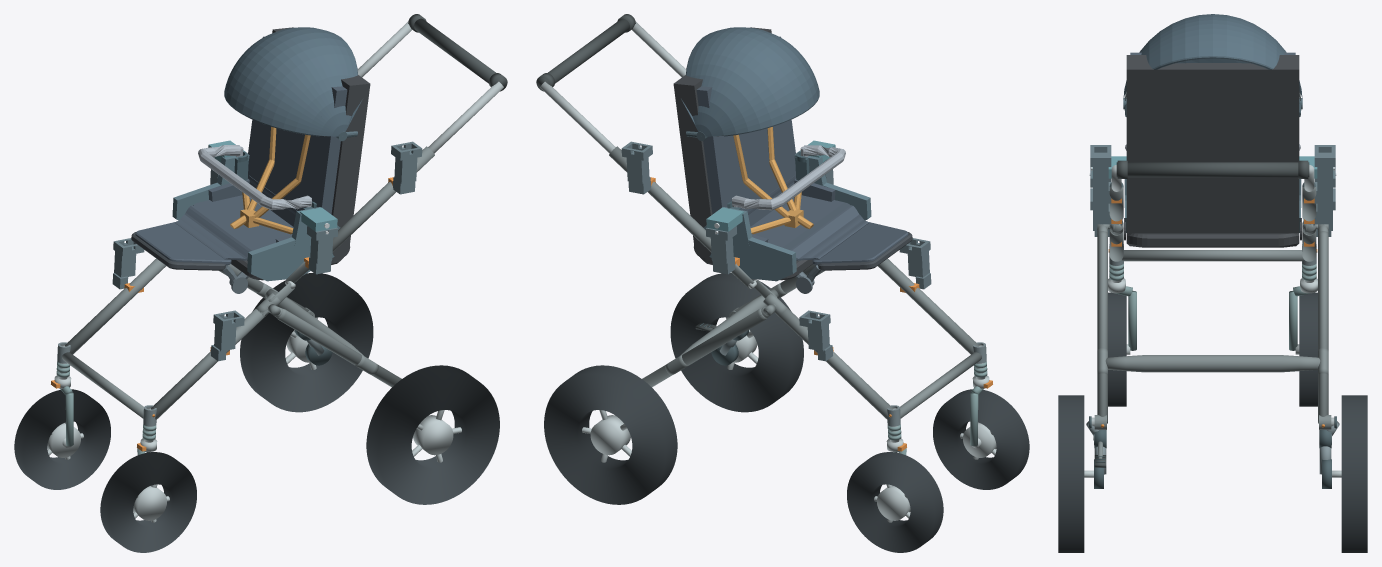
File: S05_w550_state1_wheel_L.glb
The picture shows the model from 3 angles, left to right: view 1: azimuth 30°, elevation 25°; view 2: azimuth 150°, elevation 25°; view 3: azimuth 270°, elevation 25°; orthographic projection. The views are drawn at different scales.
Visible parts, largest first — view 1: S05_Cabin, RL_tire.002, RR_tire.002, FL_tire.002, FR_tire.002, S05_Cabin_Mount_M, main_lower_1.003, V46_rear_leg_-1.003, main_lower_-1.003, round_handle.002, main_upper_-1.003, Universal_Cabin_Receiver_H_-1 (+10 smaller); view 2: S05_Cabin, RR_tire.002, RL_tire.002, FR_tire.002, FL_tire.002, S05_Cabin_Mount_M, main_lower_-1.003, V46_rear_leg_1.003, main_lower_1.003, round_handle.002, main_upper_1.003, Universal_Cabin_Receiver_H_1 (+10 smaller); view 3: S05_Cabin, RL_tire.002, RR_tire.002, V46_rearbar.003, round_handle.002, front_fixed_round_tube.002, FL_tire.002, FR_tire.002, V46_rear_leg_1.003, V46_rear_leg_-1.003, Universal_Cabin_Receiver_H_1, Universal_Cabin_Receiver_H_-1 (+9 smaller).
Boxes of the visible parts, <box> form: S05_Cabin: <box>131,27,370,293</box>; RL_tire.002: <box>366,365,499,504</box>; RR_tire.002: <box>240,273,373,412</box>; FL_tire.002: <box>100,452,196,552</box>; FR_tire.002: <box>14,389,110,489</box>; S05_Cabin_Mount_M: <box>172,140,340,281</box>; main_lower_1.003: <box>65,258,165,354</box>; V46_rear_leg_-1.003: <box>277,308,401,387</box>; main_lower_-1.003: <box>151,309,268,419</box>; round_handle.002: <box>414,18,506,89</box>; main_upper_-1.003: <box>332,146,434,252</box>; Universal_Cabin_Receiver_H_-1: <box>391,141,422,194</box>; S05_Cabin: <box>673,27,912,293</box>; RR_tire.002: <box>544,365,677,504</box>; RL_tire.002: <box>670,273,803,412</box>; FR_tire.002: <box>847,452,943,552</box>; FL_tire.002: <box>933,389,1029,489</box>; S05_Cabin_Mount_M: <box>703,140,871,281</box>; main_lower_-1.003: <box>878,258,978,354</box>; V46_rear_leg_1.003: <box>642,308,766,387</box>; main_lower_1.003: <box>775,309,892,419</box>; round_handle.002: <box>537,18,629,89</box>; main_upper_1.003: <box>609,146,711,252</box>; Universal_Cabin_Receiver_H_1: <box>621,141,652,194</box>; S05_Cabin: <box>1123,14,1302,247</box>; RL_tire.002: <box>1058,395,1084,552</box>; RR_tire.002: <box>1341,395,1367,552</box>; V46_rearbar.003: <box>1105,355,1320,372</box>; round_handle.002: <box>1116,162,1309,177</box>; front_fixed_round_tube.002: <box>1122,250,1303,261</box>; FL_tire.002: <box>1108,292,1126,406</box>; FR_tire.002: <box>1299,292,1317,406</box>; V46_rear_leg_1.003: <box>1318,231,1328,423</box>; V46_rear_leg_-1.003: <box>1097,231,1107,423</box>; Universal_Cabin_Receiver_H_1: <box>1314,145,1335,203</box>; Universal_Cabin_Receiver_H_-1: <box>1090,145,1111,203</box>.
Size of the model in its own units: 1.19 by 1.23 by 0.7071.
